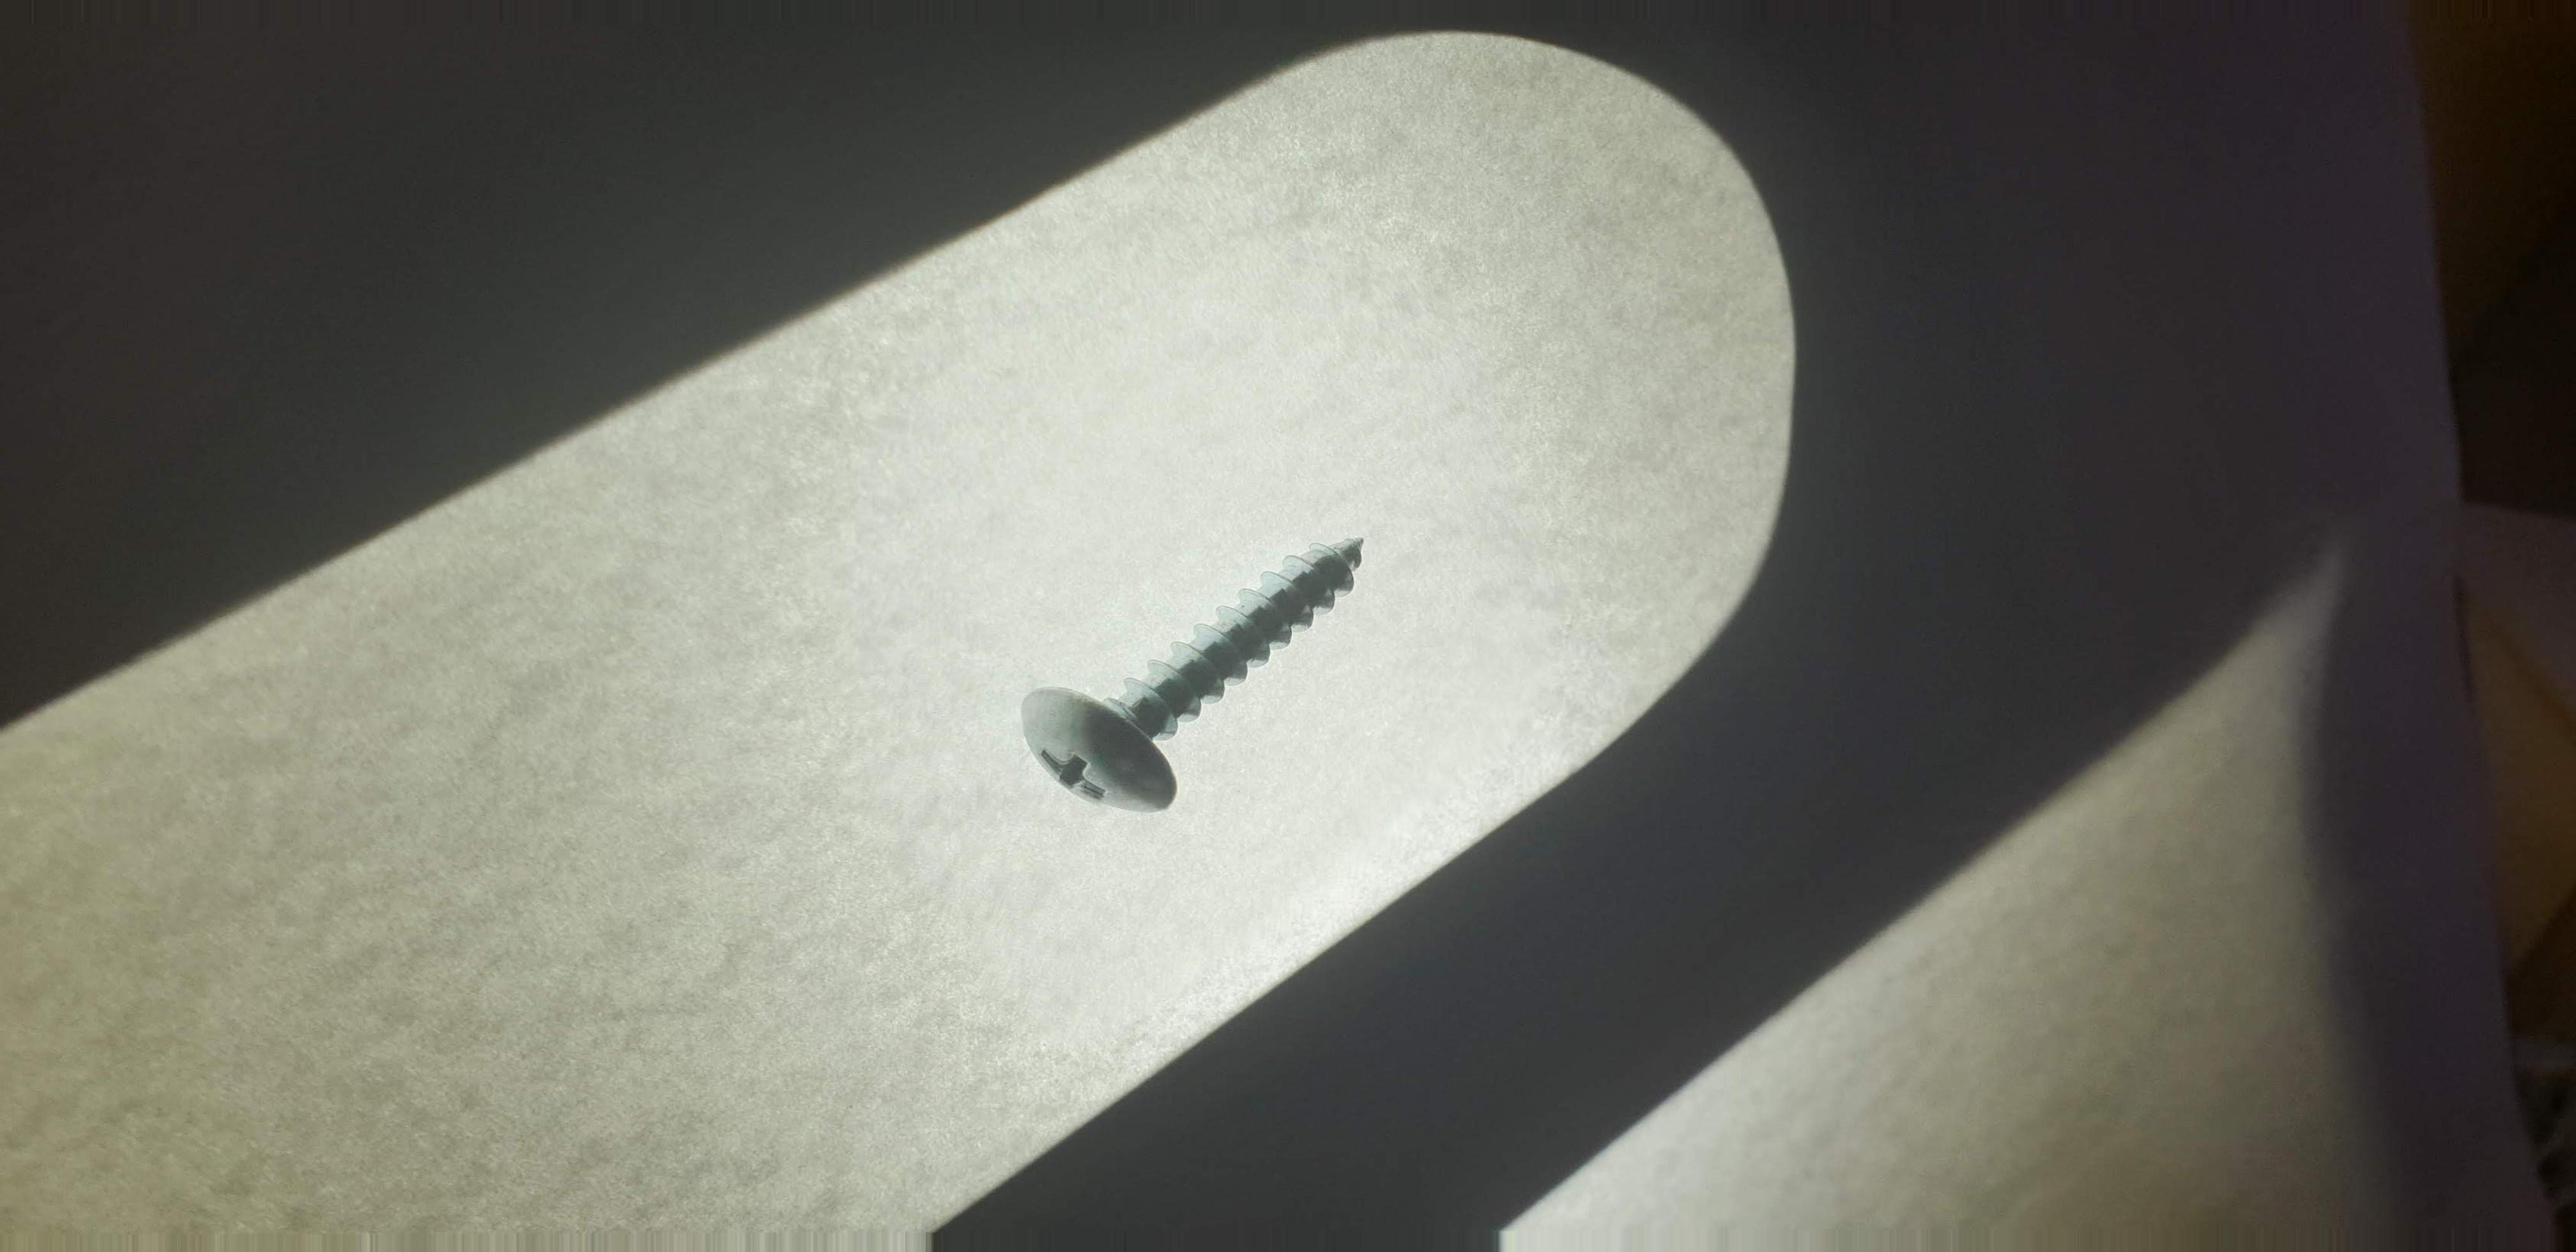S002: (989, 499, 1408, 836)
